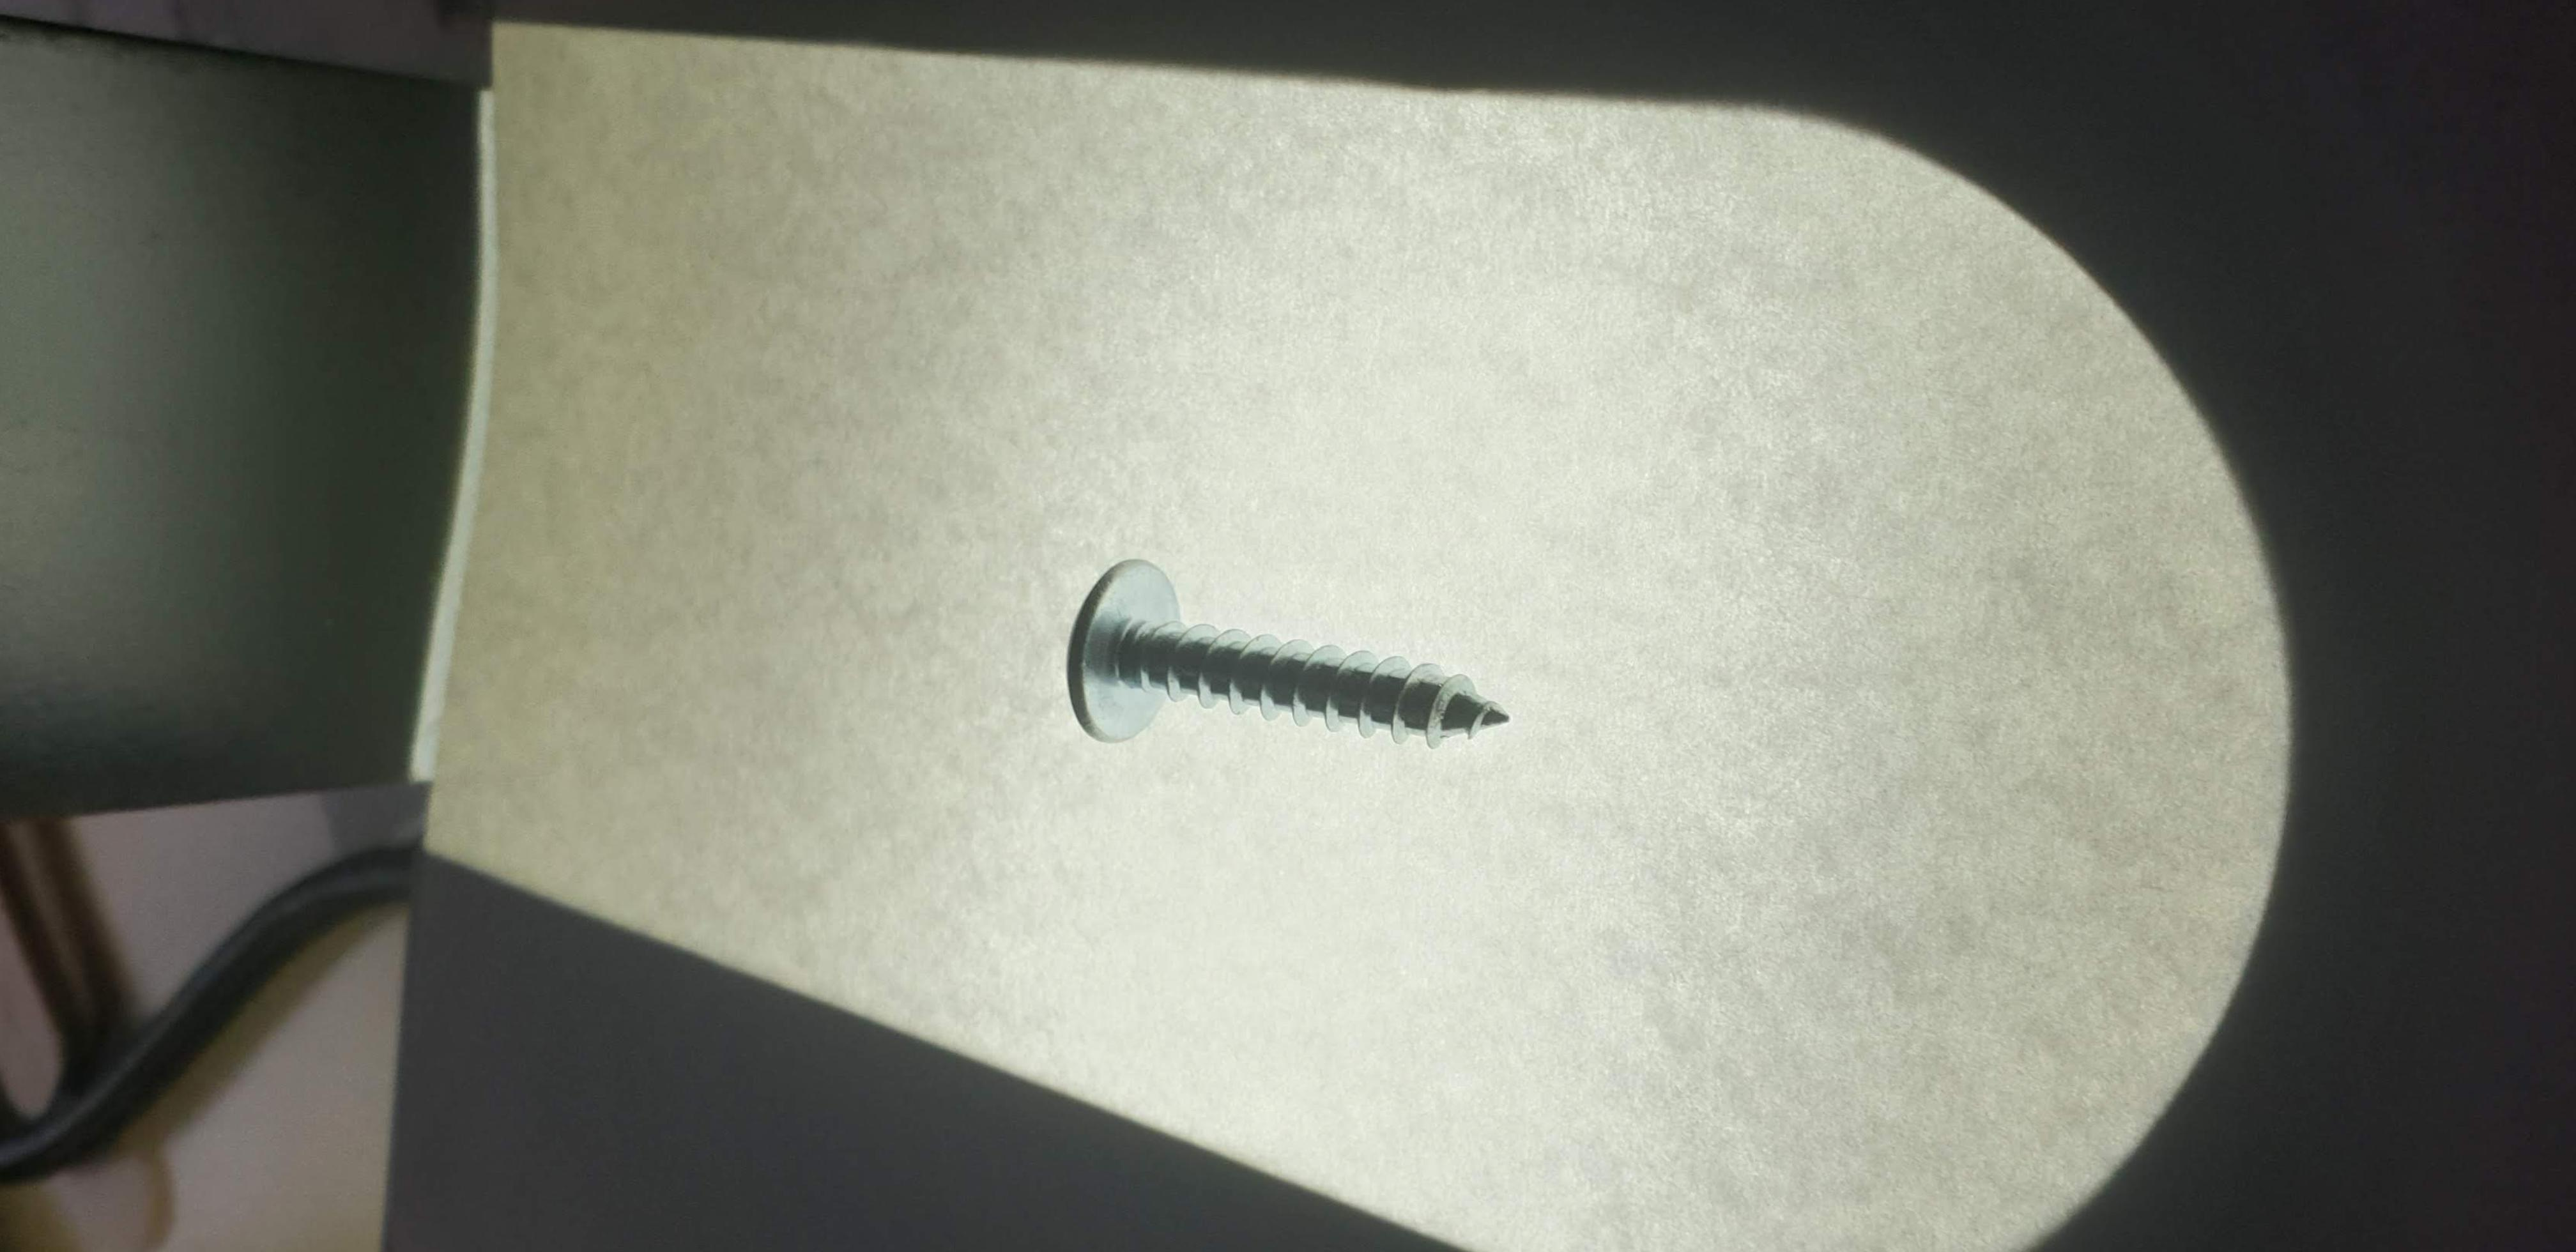S002: (1024, 522, 1571, 787)
